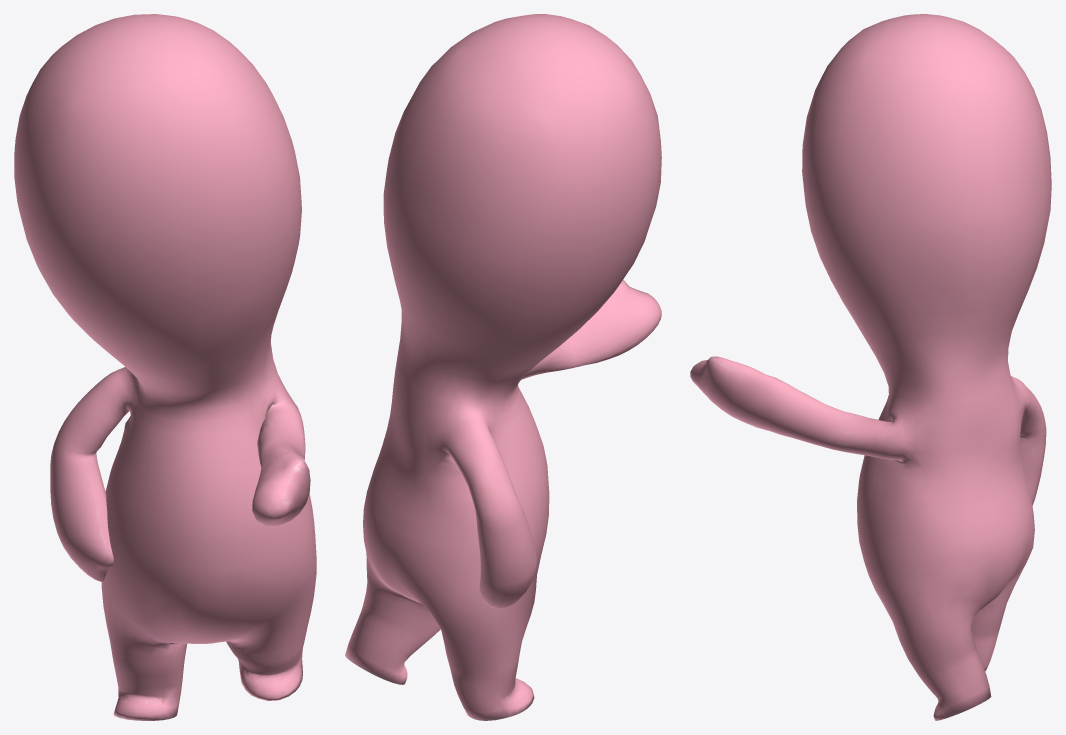
The model's file is virtual player 2.fbx.
3 views of the same model, side by side, from view 1: azimuth 30°, elevation 25°; view 2: azimuth 150°, elevation 25°; view 3: azimuth 270°, elevation 25° (orthographic). The views are drawn at different scales.
Visible parts, largest first — view 1: node_id62; view 2: node_id62; view 3: node_id62.
Part boxes in pixels (box(x1,y1,x2,y2)): node_id62: box(14, 14, 316, 720); node_id62: box(345, 14, 661, 720); node_id62: box(690, 14, 1051, 720).
Bounding box in the file's own units: 0.2164 × 0.512 × 0.2644.
1 material, 1 textured.
